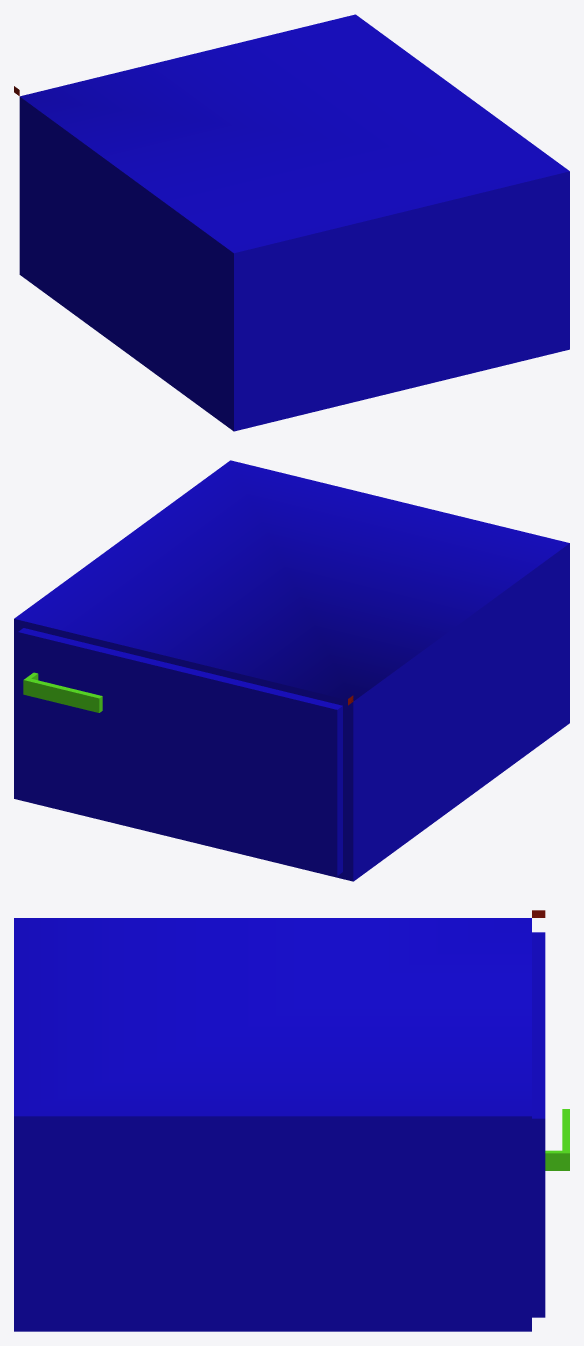
The model's file is P_Etagere03_Colored_Unbreakable.fbx.
The picture shows the model from 3 angles, top to bottom: view 1: azimuth 30°, elevation 25°; view 2: azimuth 150°, elevation 25°; view 3: azimuth 270°, elevation 25°; orthographic projection. The views are drawn at different scales.
Parts seen in each view (by area): view 1: P_Etagere03_Colored_Unbreakable; view 2: P_Etagere03_Colored_Unbreakable; view 3: P_Etagere03_Colored_Unbreakable.
Part boxes in pixels (x1,y1,x2,y2): P_Etagere03_Colored_Unbreakable: [14, 14, 569, 431]; P_Etagere03_Colored_Unbreakable: [14, 460, 569, 881]; P_Etagere03_Colored_Unbreakable: [14, 910, 569, 1331].
Bounding box in the file's own units: 74.9 × 39.35 × 88.82.
